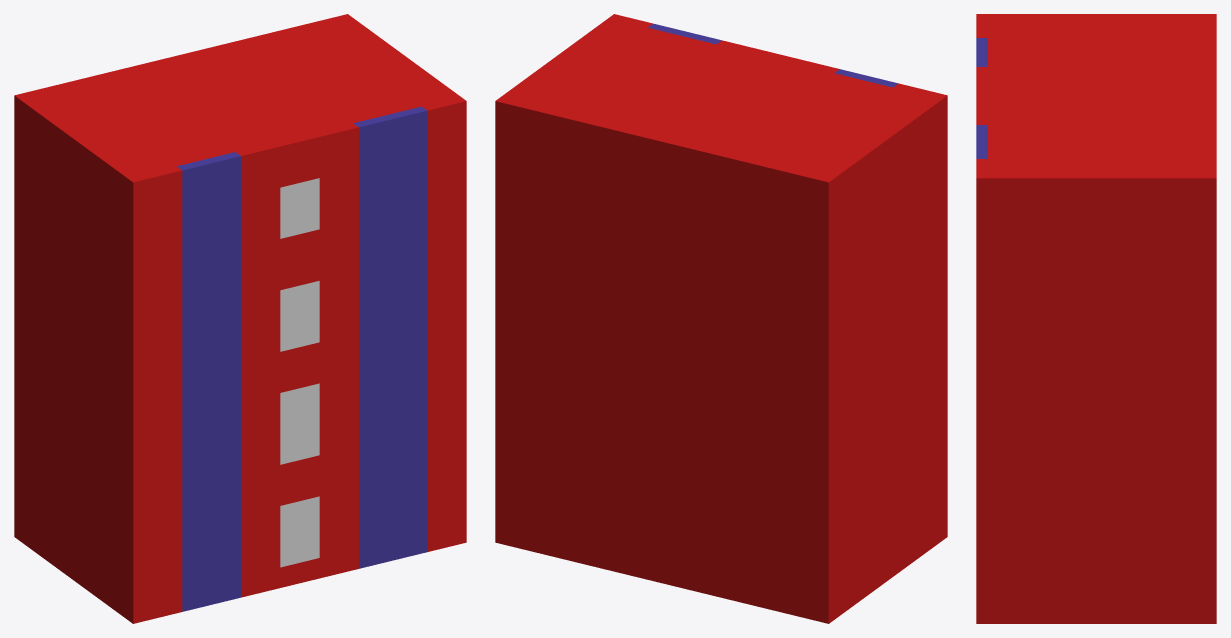
File: woodenman-0.obj
The picture shows the model from 3 angles, left to right: view 1: azimuth 30°, elevation 25°; view 2: azimuth 150°, elevation 25°; view 3: azimuth 270°, elevation 25°; orthographic projection.
Size of the model in its own units: 3.4 by 4.3 by 2.1.
1 material, 1 textured.
